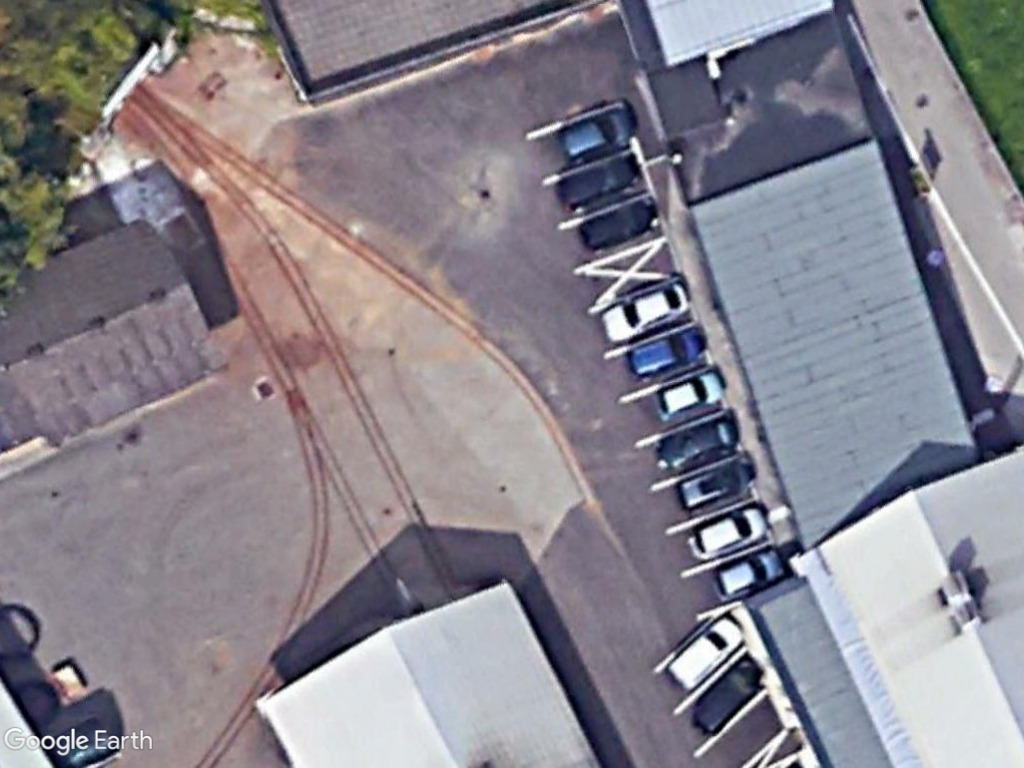car: (552, 147, 651, 224), (680, 657, 769, 741), (647, 408, 746, 483), (595, 277, 696, 348), (679, 500, 776, 566), (575, 192, 666, 258), (558, 102, 642, 166), (708, 540, 791, 604), (625, 322, 709, 382), (647, 365, 728, 426)
van: (658, 611, 746, 693)
